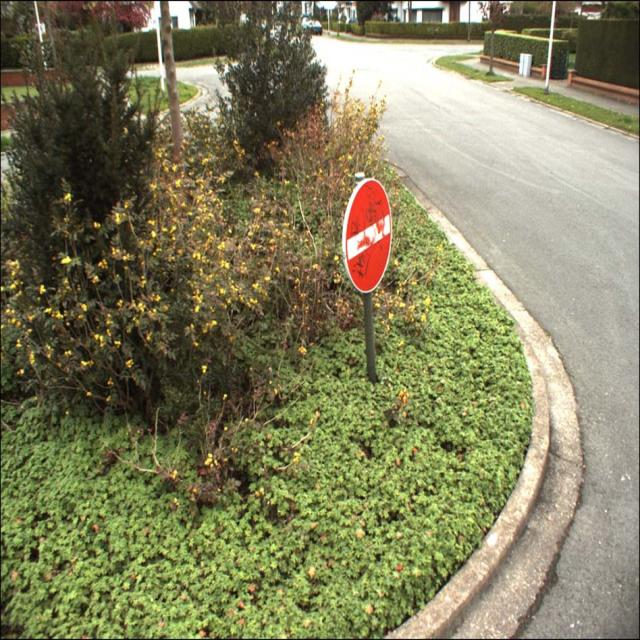girisyok: (345, 178, 391, 294)
